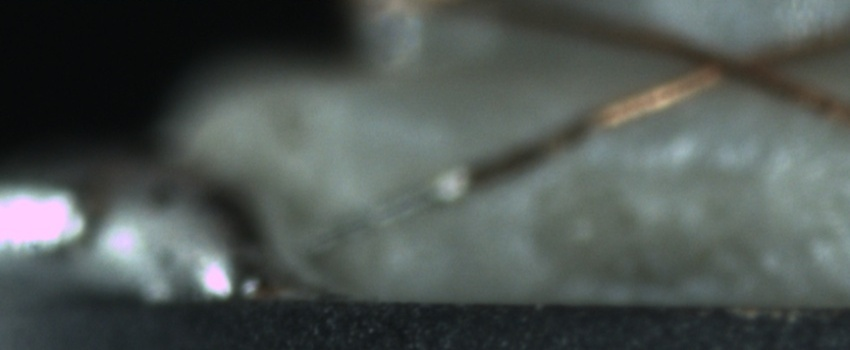CL: (672, 37, 800, 89)
DL: (558, 130, 806, 194)
TS: (297, 169, 469, 258)
TTCW: (270, 95, 632, 281)
